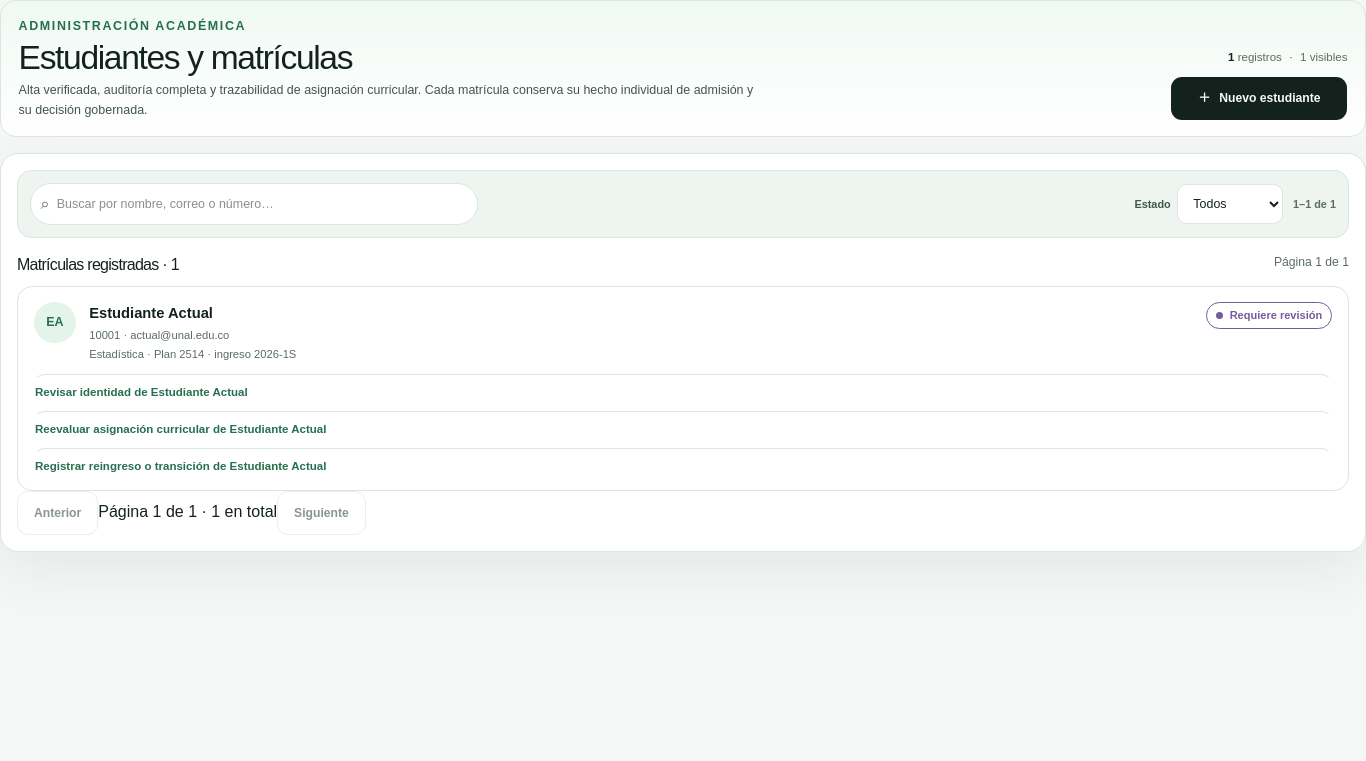
StudentAdministrationWorkspace › lets an administrator reevaluate a pending enrollment without choosing a plan
Click the heading "Reevaluar asignación curricular de Estudiante Actual" at (181, 429), box x1=35 y1=423 x2=326 y2=435
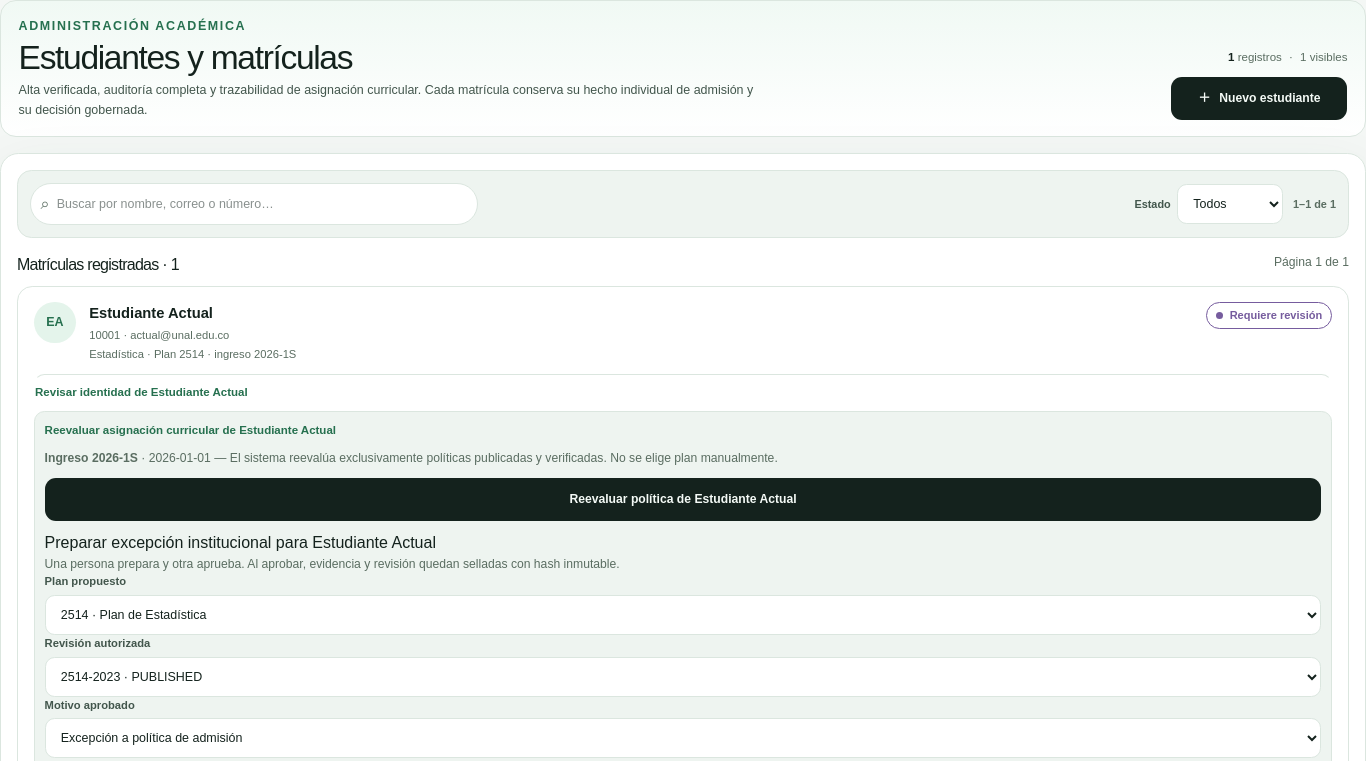
Click the button "Reevaluar política de Estudiante Actual" at (683, 499), box x1=45 y1=478 x2=1321 y2=521
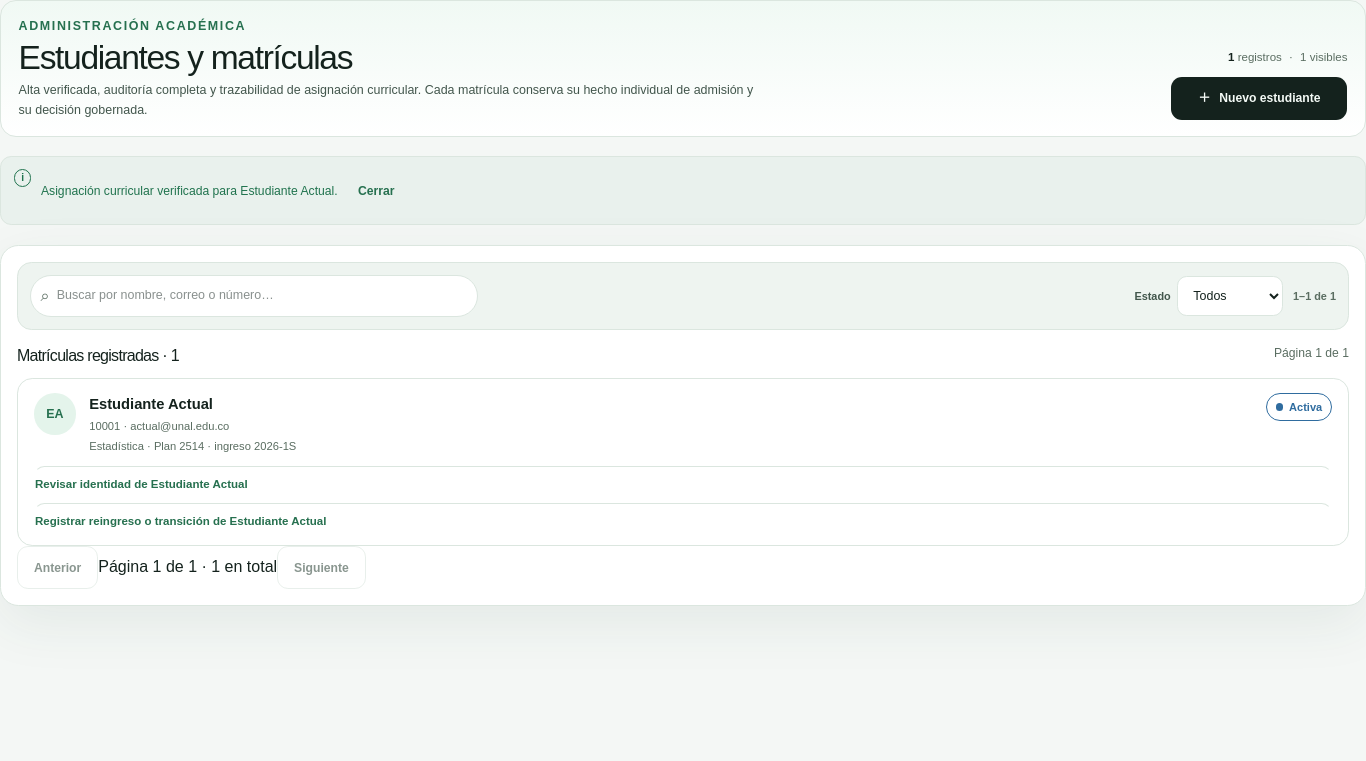
Now the text "Asignación curricular verificada para Estudiante Actual." is shown, box x1=41 y1=184 x2=338 y2=198
